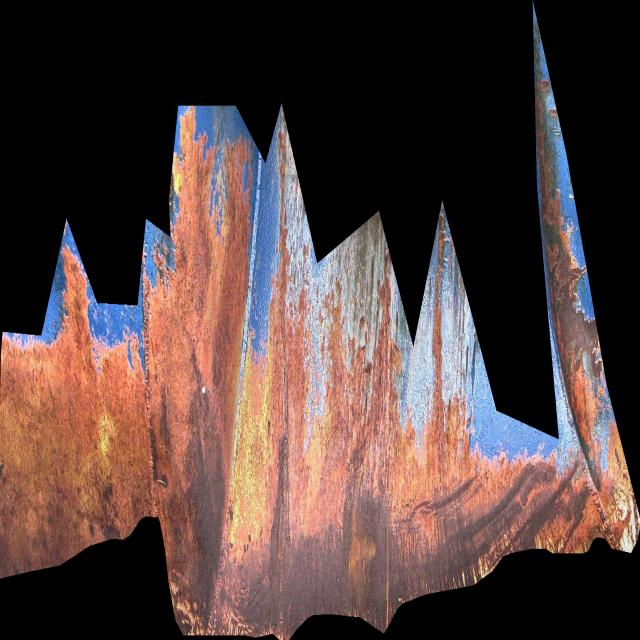Uniform Corrosion: (0, 1, 640, 640)
